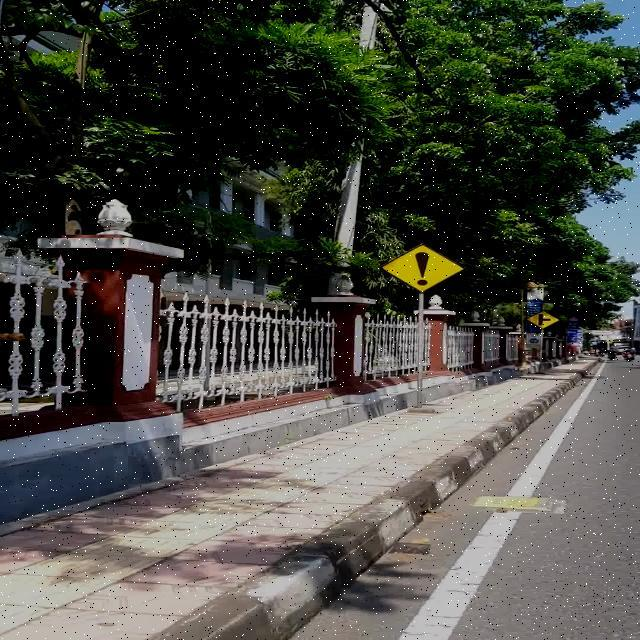Hati-Hati: (379, 242, 465, 292)
